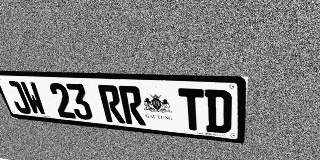2: (48, 82, 76, 119)
3: (65, 83, 94, 120)
D: (205, 89, 232, 134)
J: (4, 81, 33, 114)
R: (118, 85, 146, 126), (97, 85, 125, 124)
T: (178, 88, 205, 131)
W: (19, 81, 48, 116)
